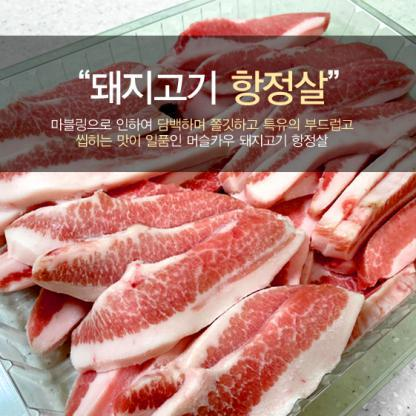pork: (17, 195, 416, 415)
